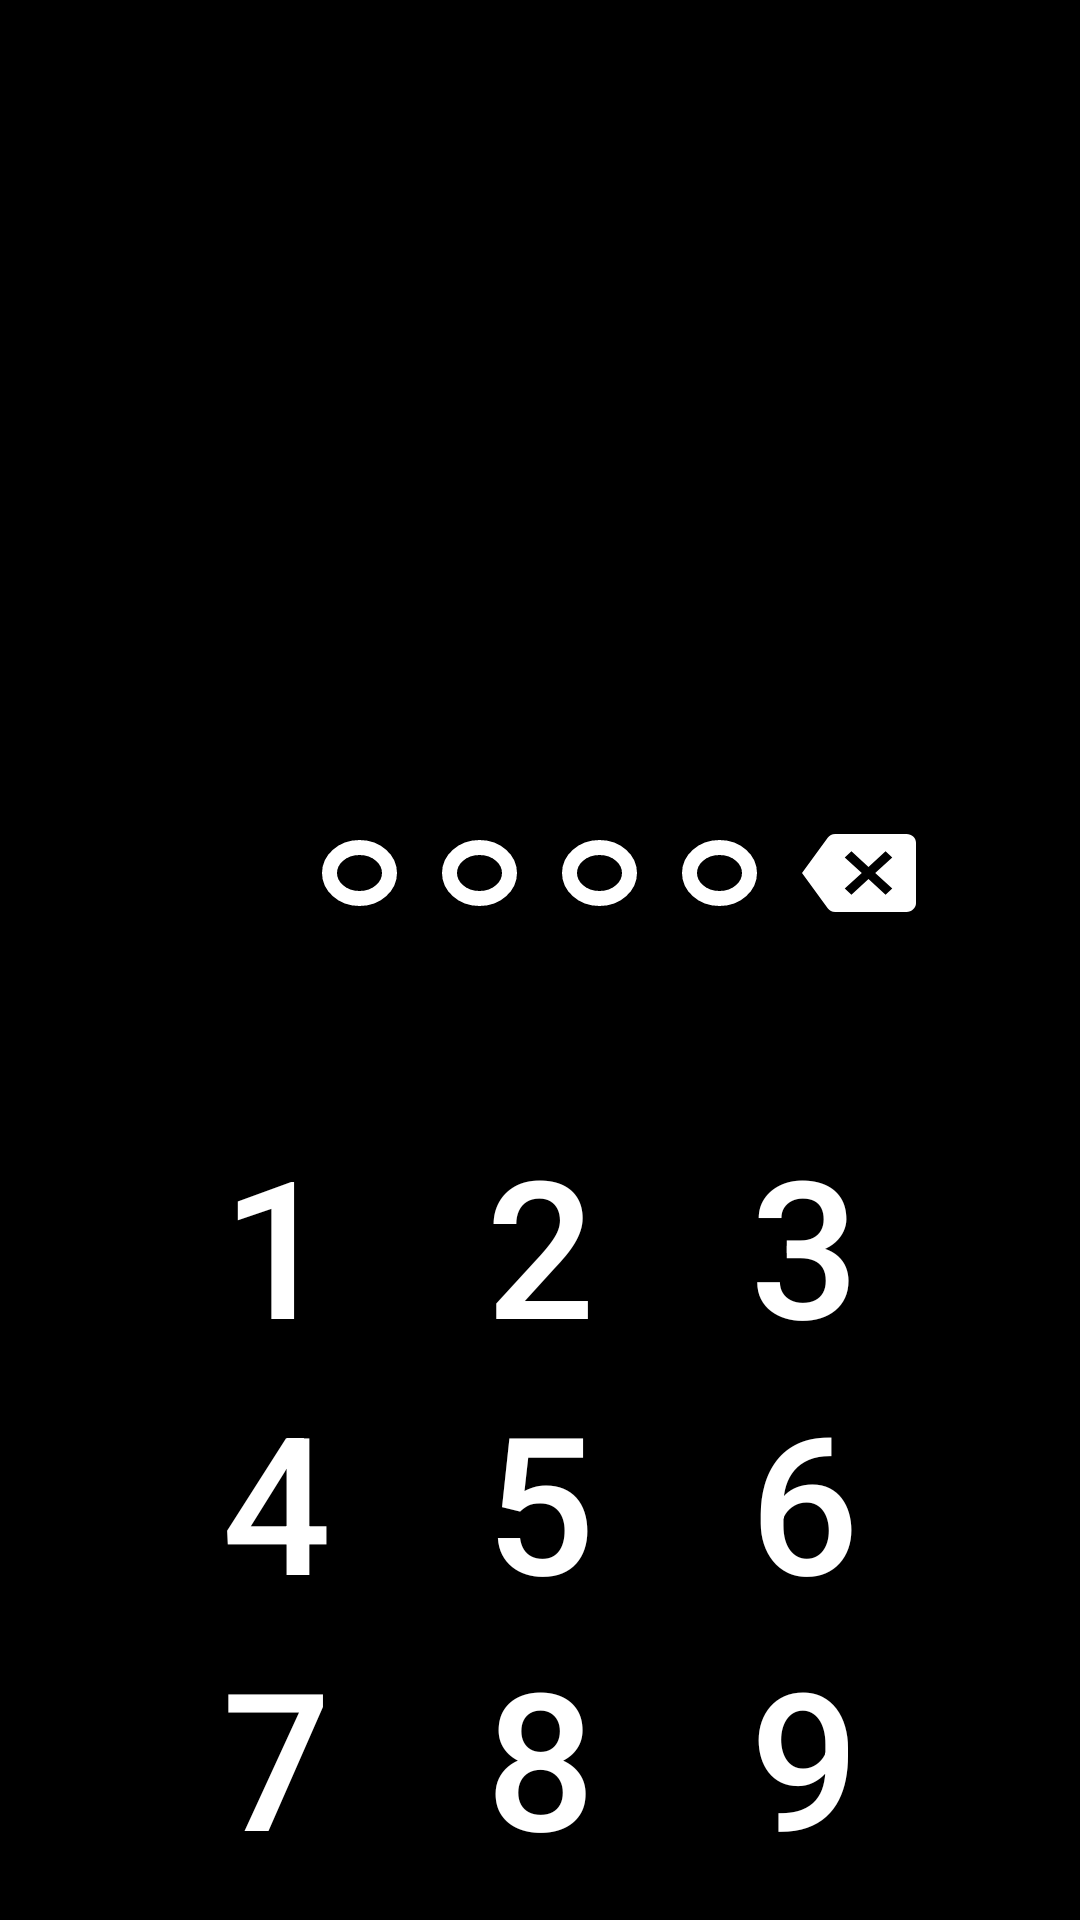

Named icons in this screenshot (1080px×1920px) and their bounding boxes, (x1,y1,x2,y2):
auth sircleoff: (322,840,397,906), (442,840,517,906), (562,840,637,906), (682,840,757,906)
cancel: (802,834,916,912)
